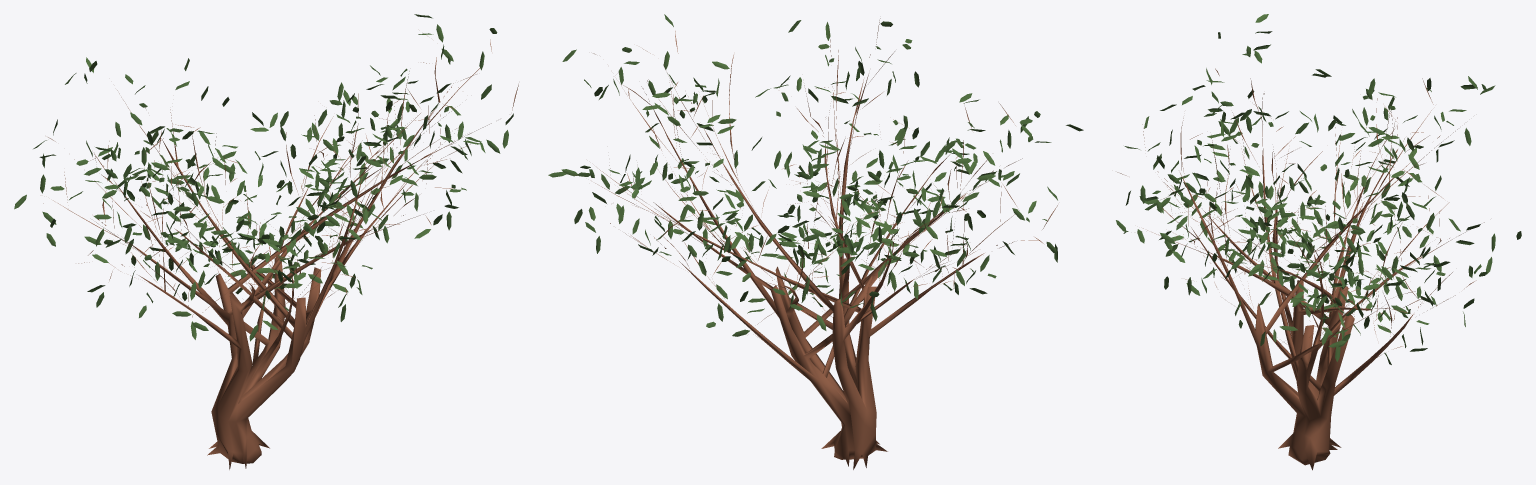
File: Arbousier_2_Niveau1.fbx
The picture shows the model from 3 angles, left to right: view 1: azimuth 30°, elevation 25°; view 2: azimuth 150°, elevation 25°; view 3: azimuth 270°, elevation 25°; orthographic projection.
Parts seen in each view (by area): view 1: Arbousier_2_Niveau1; view 2: Arbousier_2_Niveau1; view 3: Arbousier_2_Niveau1.
Part boxes in pixels (bbox=[...]): Arbousier_2_Niveau1: bbox=[14, 14, 518, 469]; Arbousier_2_Niveau1: bbox=[548, 14, 1083, 469]; Arbousier_2_Niveau1: bbox=[1116, 14, 1521, 470].
Bounding box in the file's own units: 327 × 252 × 251.
